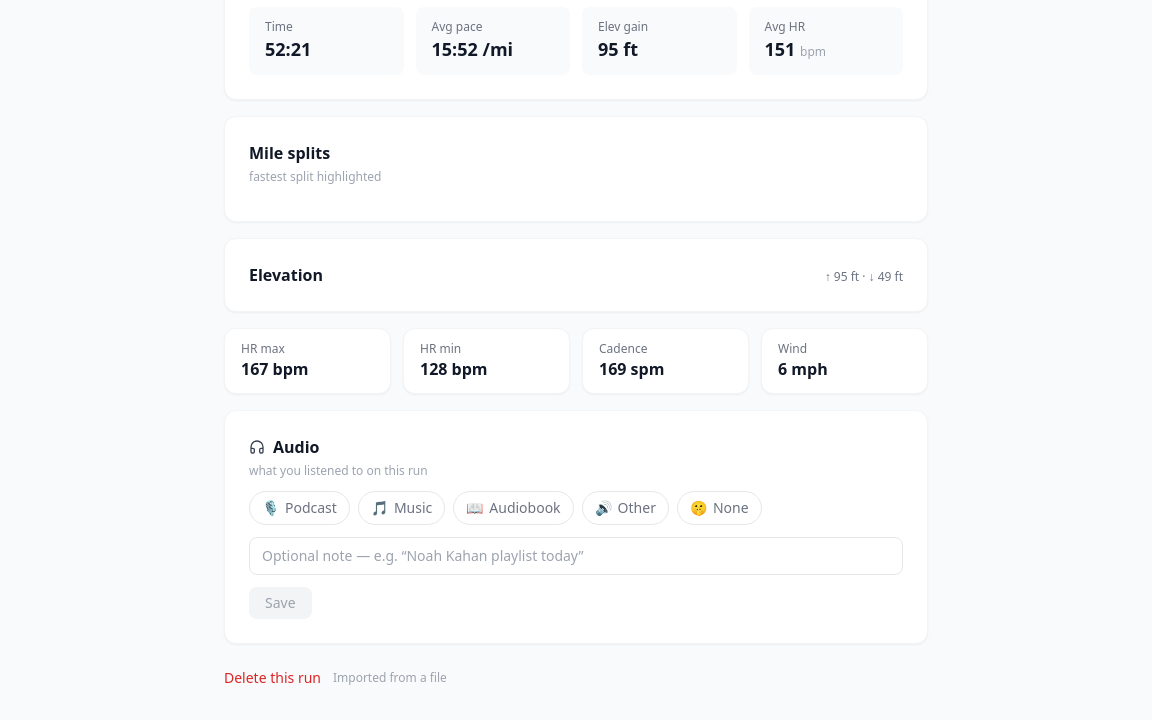
it: RunDetailView (SB-263) › delete control › stays put and shows why when the delete is refused
This screenshot has width=1152, height=720.
(page scrolled)
Step 1. Click the button "Delete this run" → (272, 678), box x1=224 y1=668 x2=321 y2=688
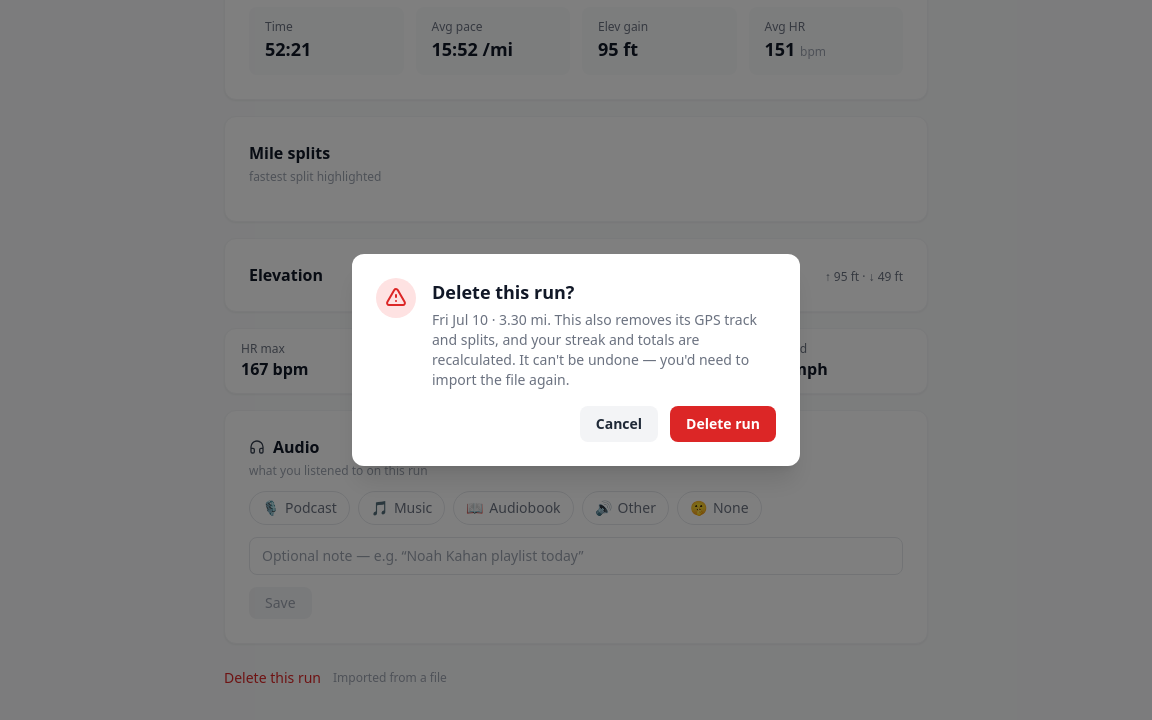
Step 2. Click the button "Delete run" → (723, 424), box x1=670 y1=406 x2=776 y2=442
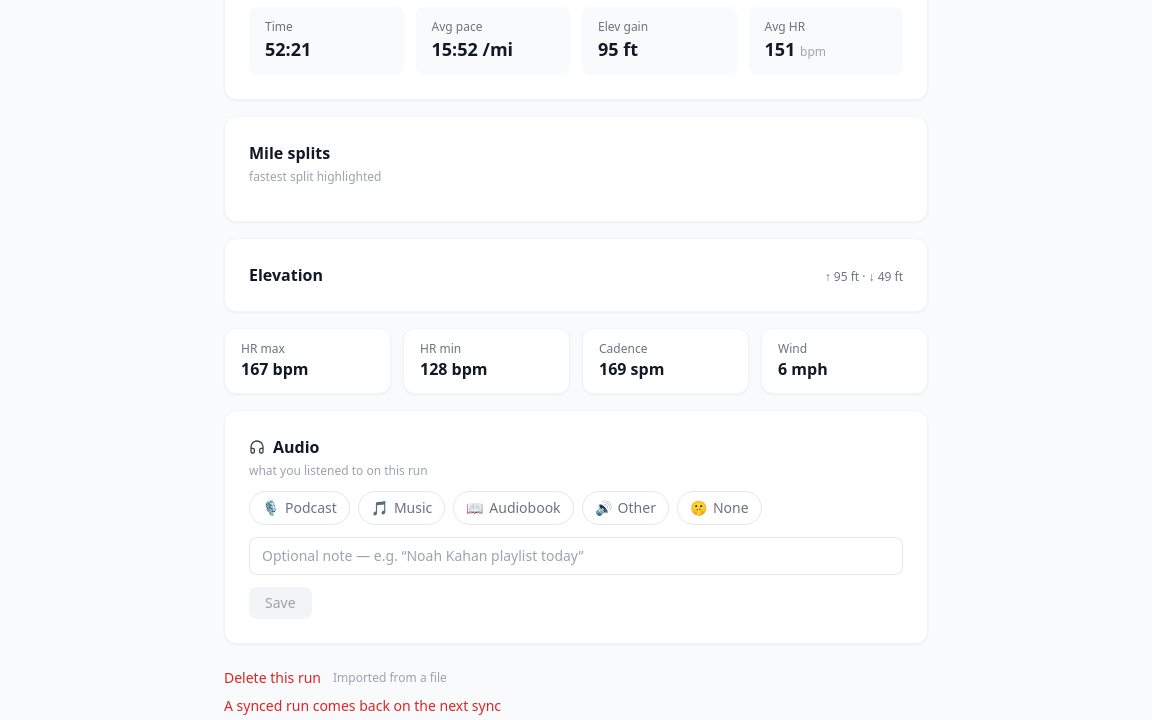
Result: the message "A synced run comes back on the next sync" is shown at x1=224 y1=696 x2=501 y2=715
